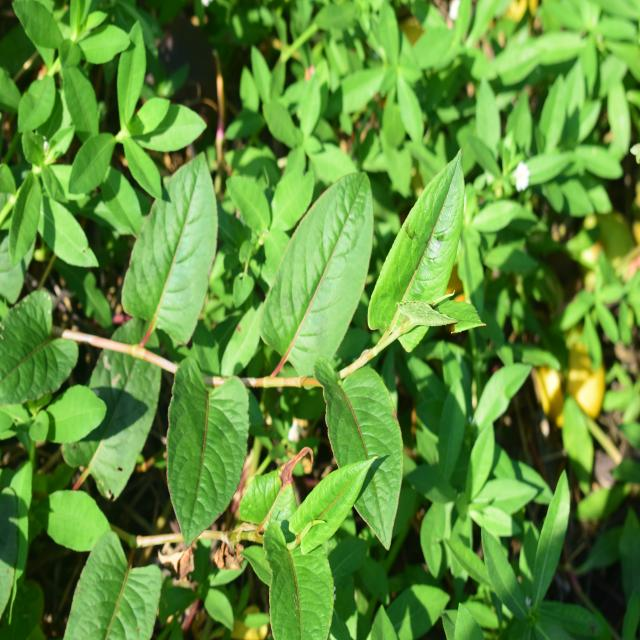Chinese_knotweed: (140, 168, 465, 510)
